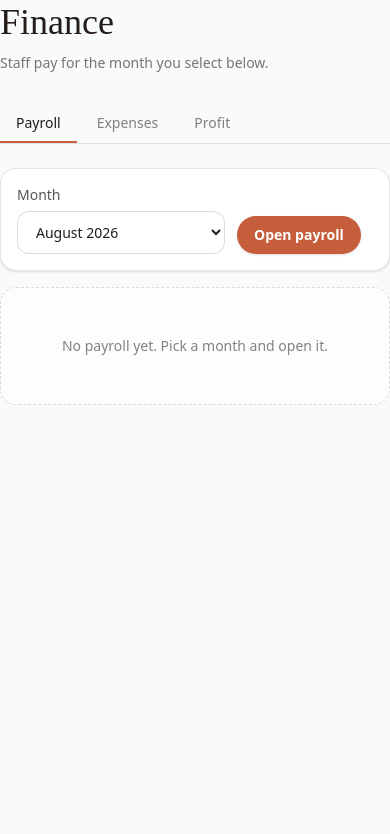
Test: FinanceView — the phone (md:hidden) expense log › opens the edit form for the expense the card belongs to, prefilled
Click the button "Expenses": [128, 124] box top-left (81, 105), bottom-right (174, 143)
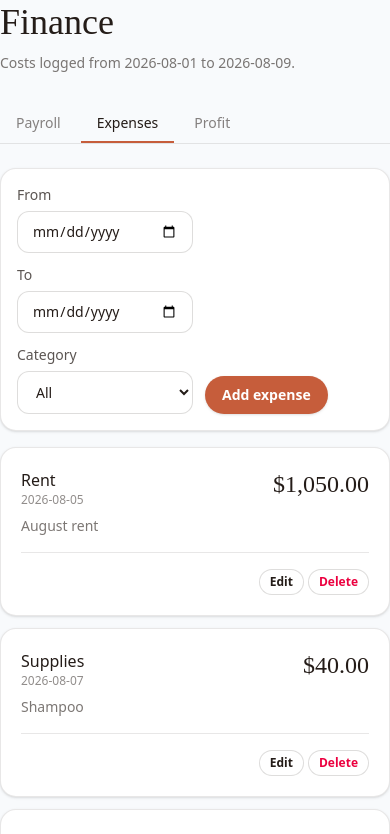
Click the button "Edit" below "Shampoo": [281, 763] box top-left (259, 750), bottom-right (304, 776)
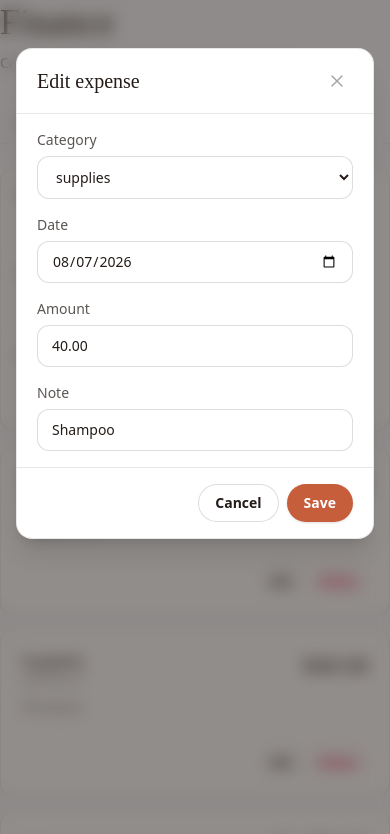
Expected: the heading "Edit expense" is shown, top-left (37, 67), bottom-right (140, 95)
Expected: the number field holds "40.00", top-left (37, 325), bottom-right (353, 367)
